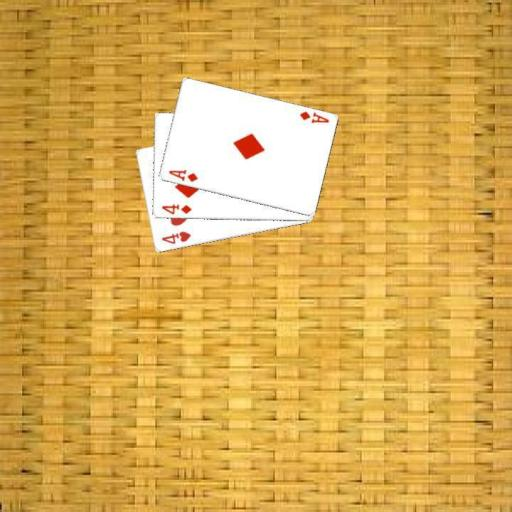card-corner: (165, 166, 199, 184), (159, 228, 192, 246), (296, 108, 330, 125), (158, 202, 192, 216)
